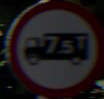Heavy Vehicles: (7, 12, 94, 76)
